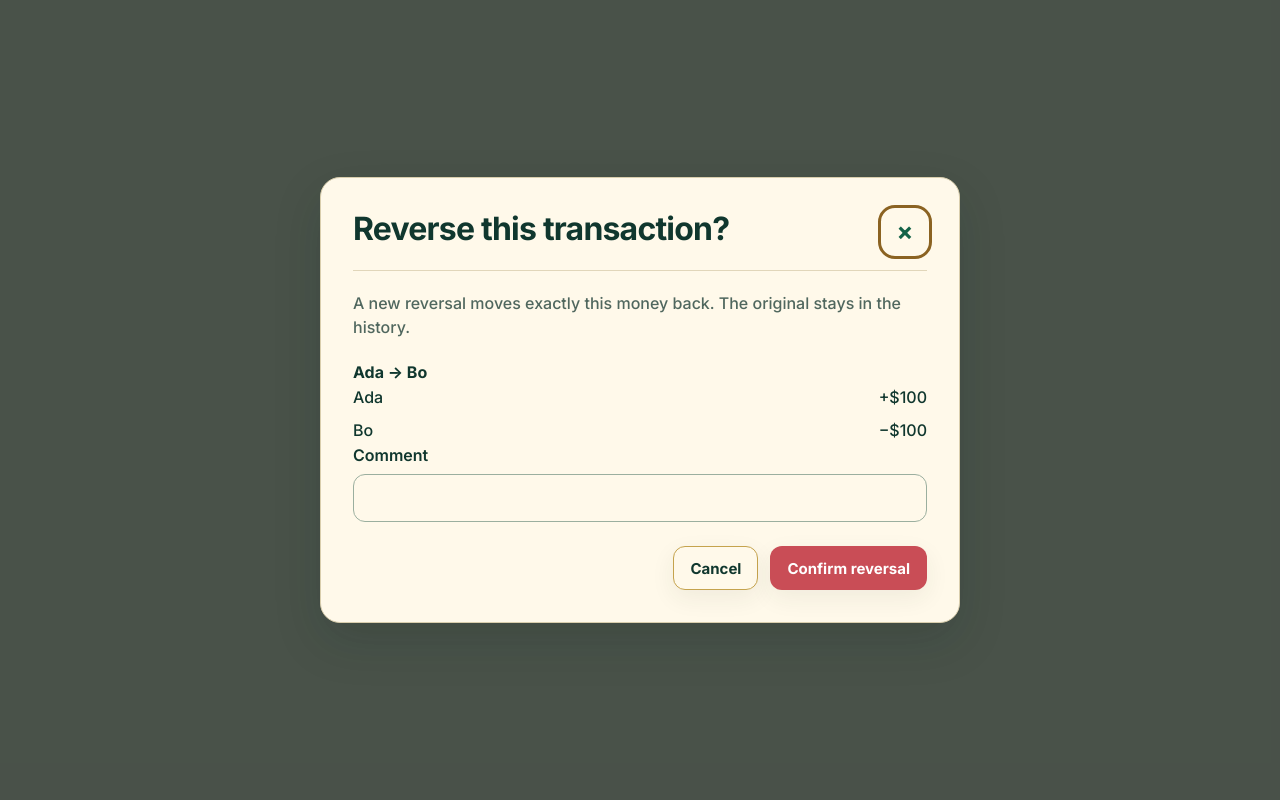
Test: ReverseTransactionDialog › explains TRANSACTION_NOT_REVERSIBLE and stays open
Click the button "Confirm reversal". click: (849,568)
box: [770,546,927,590]
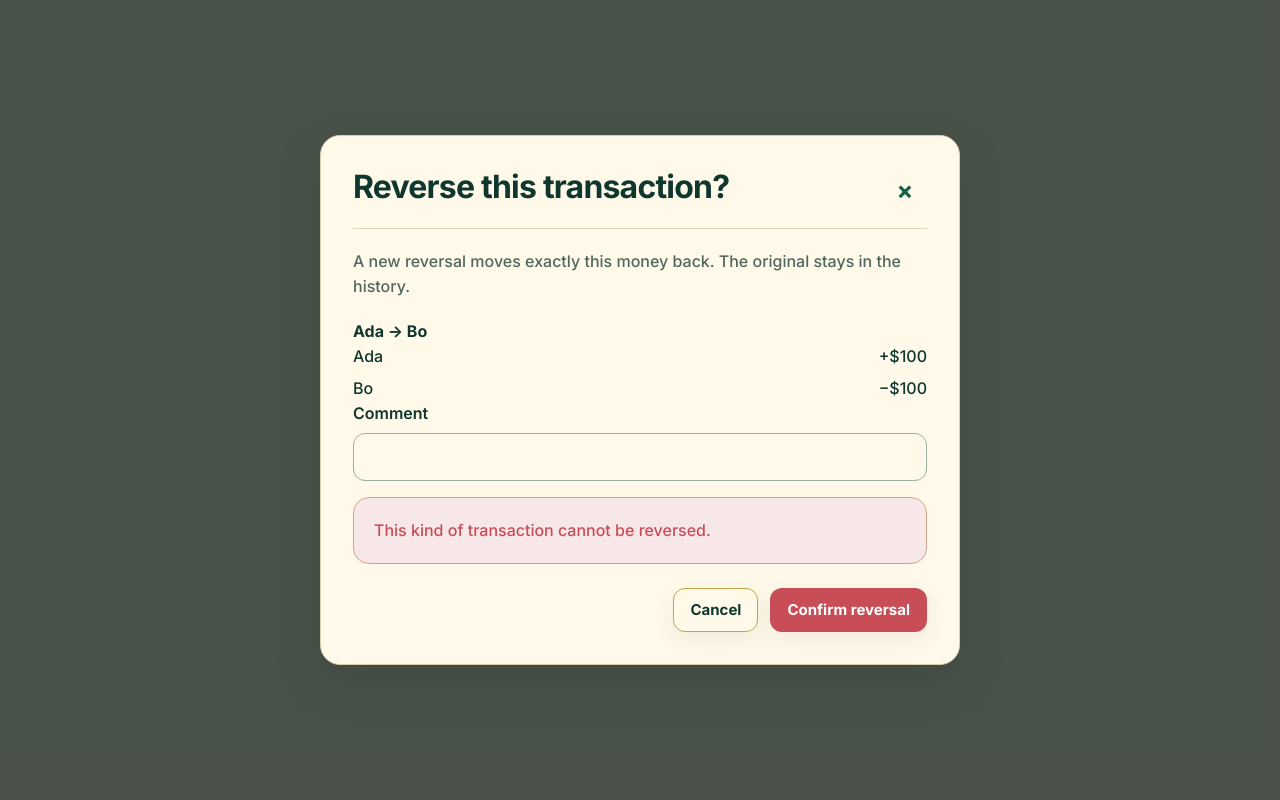
Check: the text "This kind of transaction cannot be reversed." is shown, box [353,497,927,564]
